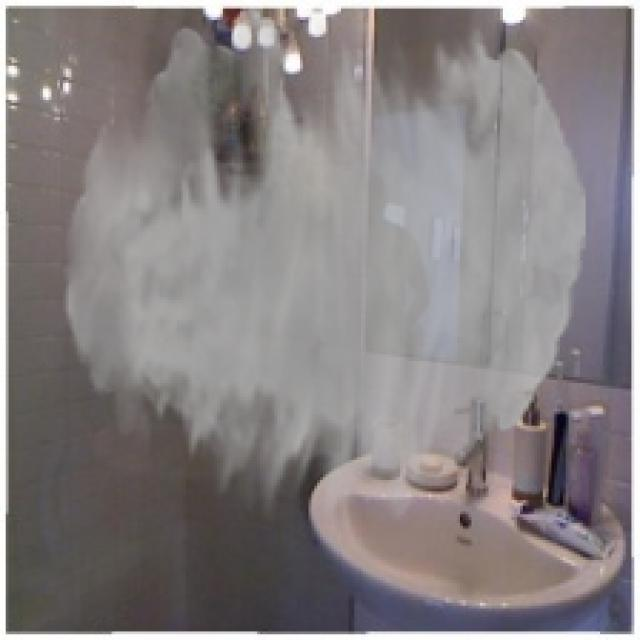Smoke: (63, 8, 586, 526)
